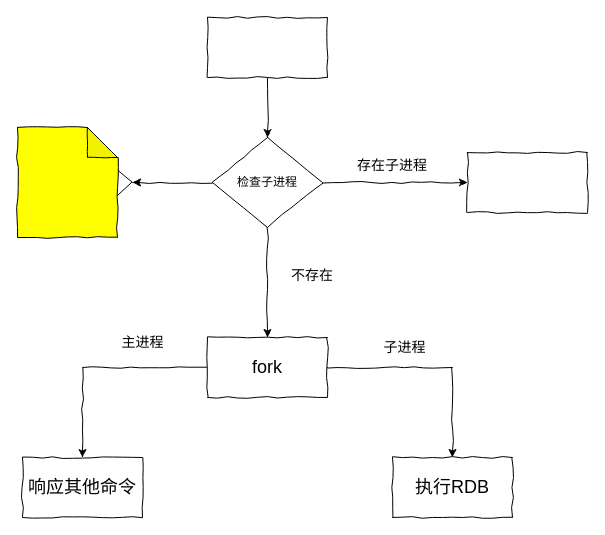
Some shapes in this 605 by 535 pixel diagram are drawn without their labels. The shapes that lost their labels are listed below. From the top down, each one's centre as x and y in pixels, then its label:
At point (267, 47): "bgsave".
At point (67, 182): "检查是否存在AOF或者其他RDB的子进程".
At point (527, 182): "直接返回".
